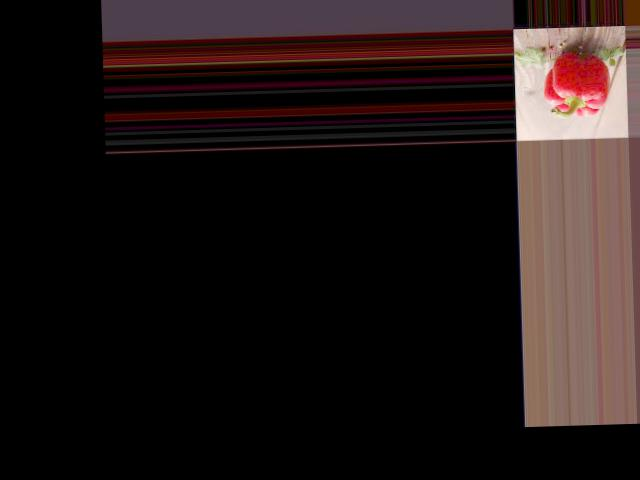bell_pepper: (539, 49, 615, 123)
